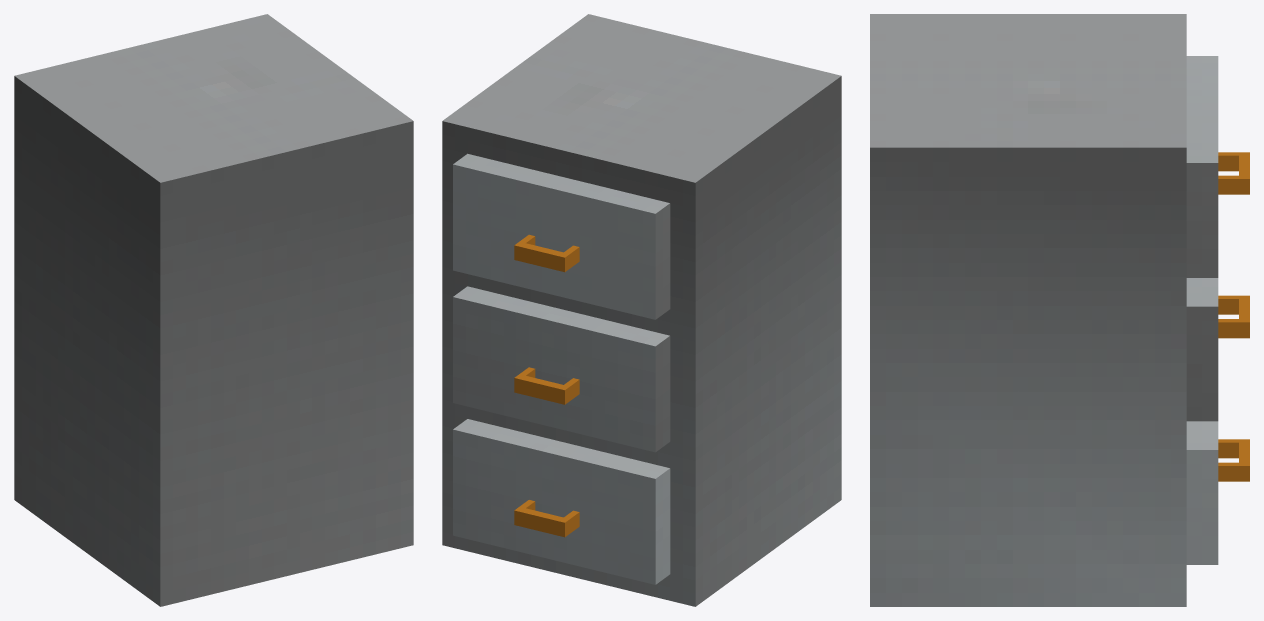
File: szafka.gltf
3 renders of one model, left to right at view 1: azimuth 30°, elevation 25°; view 2: azimuth 150°, elevation 25°; view 3: azimuth 270°, elevation 25°, orthographic. The views are drawn at different scales.
Visible parts, largest first — view 1: body; view 2: body, szuflada (×3), cube (×3); view 3: body, szuflada (×3).
Part boxes in pixels (left/top/right/bottom): body: left=14, top=14, right=413, bottom=606; body: left=442, top=14, right=841, bottom=606; szuflada (×3): left=453, top=153, right=670, bottom=584; cube (×3): left=514, top=241, right=569, bottom=537; body: left=870, top=14, right=1186, bottom=606; szuflada (×3): left=1186, top=56, right=1218, bottom=564.
Bounding box in the file's own units: 0.3125 × 0.5 × 0.375.
Materials: 1 (1 with a texture image).
